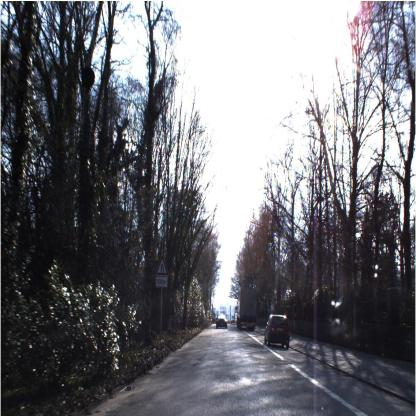danger: (153, 250, 171, 280)
